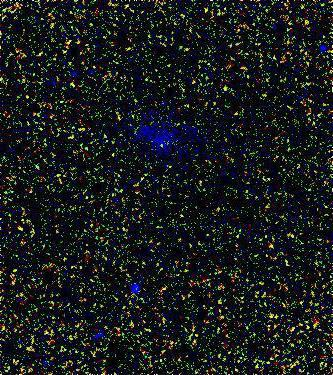star: (145, 132, 175, 162)
